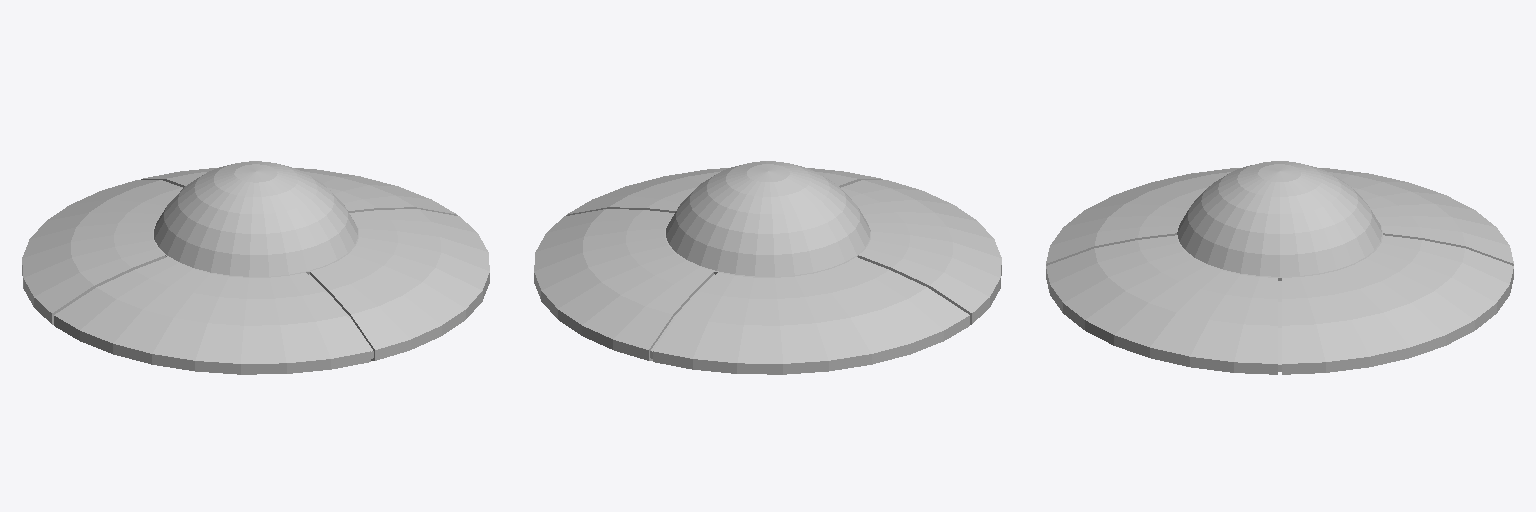
The picture shows the model from 3 angles: view 1: azimuth 30°, elevation 25°; view 2: azimuth 150°, elevation 25°; view 3: azimuth 270°, elevation 25°; orthographic projection.
Parts seen in each view (by area): view 1: UFO_cockpit; view 2: UFO_cockpit; view 3: UFO_cockpit.
Boxes of the visible parts, x1,y1,x2,y2 form: UFO_cockpit: [22, 161, 489, 374]; UFO_cockpit: [534, 161, 1001, 374]; UFO_cockpit: [1046, 161, 1513, 374].
Bounding box in the file's own units: 67.87 × 27.04 × 67.87.